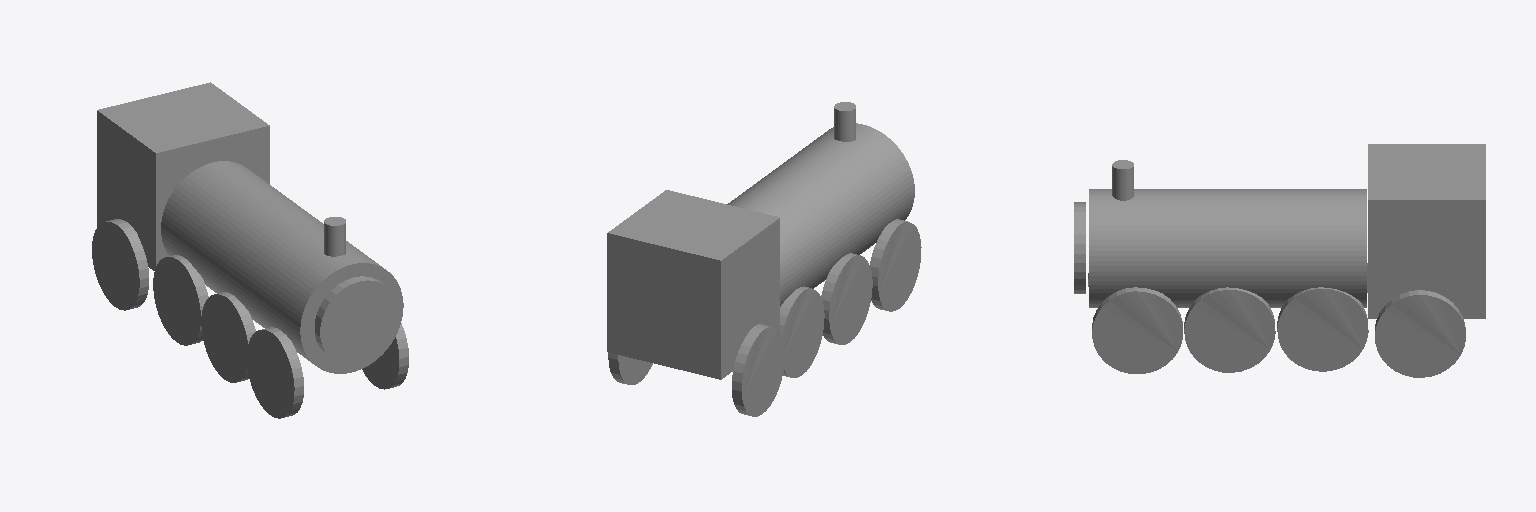
Rendered from trainHeadScaled.obj.
3 renders of one model, left to right at view 1: azimuth 30°, elevation 25°; view 2: azimuth 150°, elevation 25°; view 3: azimuth 270°, elevation 25°, orthographic.
Visible parts, largest first — view 1: Cube_Cube.001; view 2: Cube_Cube.001; view 3: Cube_Cube.001.
Boxes of the visible parts, box(x1,y1,x2,y2) form: Cube_Cube.001: box(92, 82, 408, 418); Cube_Cube.001: box(607, 102, 921, 416); Cube_Cube.001: box(1074, 144, 1485, 377).
Bounding box in the file's own units: 0.4699 × 0.5983 × 1.22.